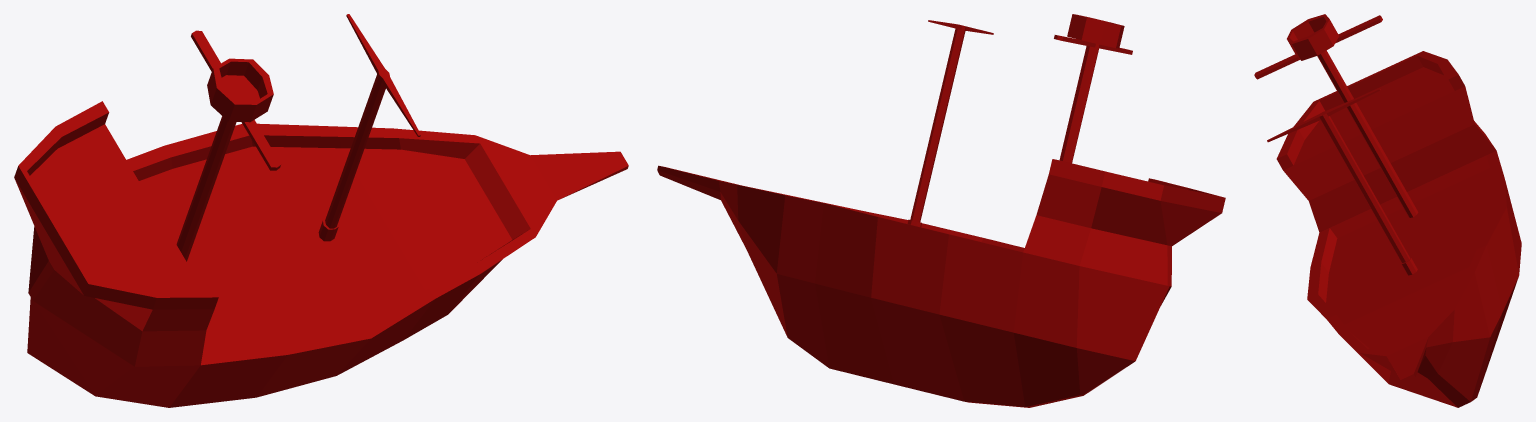
The model's file is BARCO.obj.
3 views of the same model, side by side, from view 1: azimuth 30°, elevation 25°; view 2: azimuth 150°, elevation 25°; view 3: azimuth 270°, elevation 25° (orthographic). The views are drawn at different scales.
Visible parts, largest first — view 1: Cube.006; view 2: Cube.006; view 3: Cube.006.
Part boxes in pixels (left/top/right/bottom): Cube.006: left=14, top=14, right=628, bottom=407; Cube.006: left=657, top=14, right=1225, bottom=407; Cube.006: left=1254, top=14, right=1521, bottom=407.
Size of the model in its own units: 90.13 by 57.4 by 45.23.
